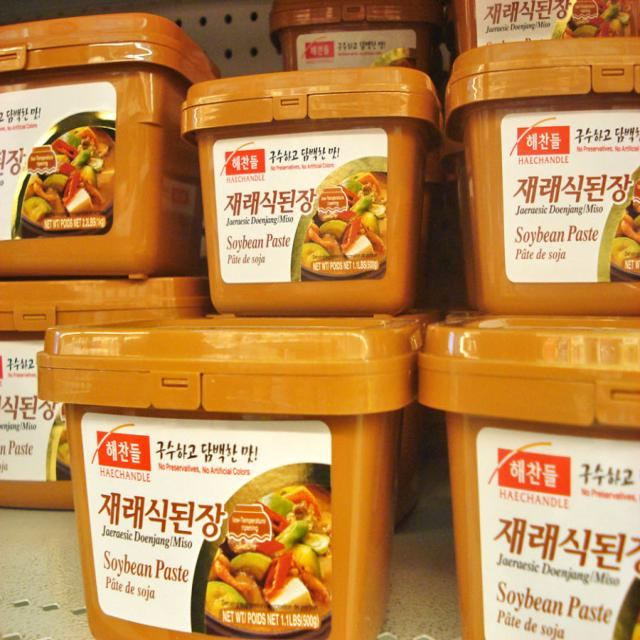plastic: (0, 276, 427, 640), (413, 301, 640, 640), (177, 74, 438, 310), (0, 15, 208, 278), (437, 44, 640, 303), (266, 0, 440, 72), (446, 0, 640, 47)
